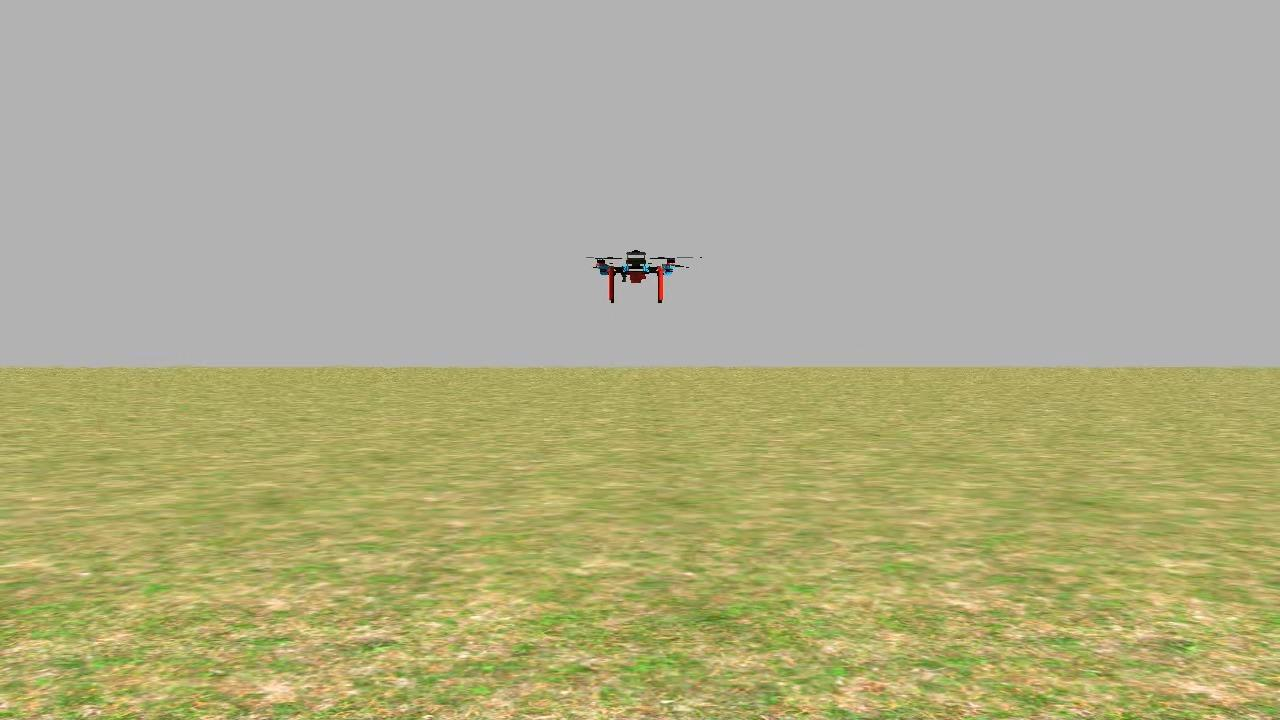UAV: (589, 236, 682, 306)
